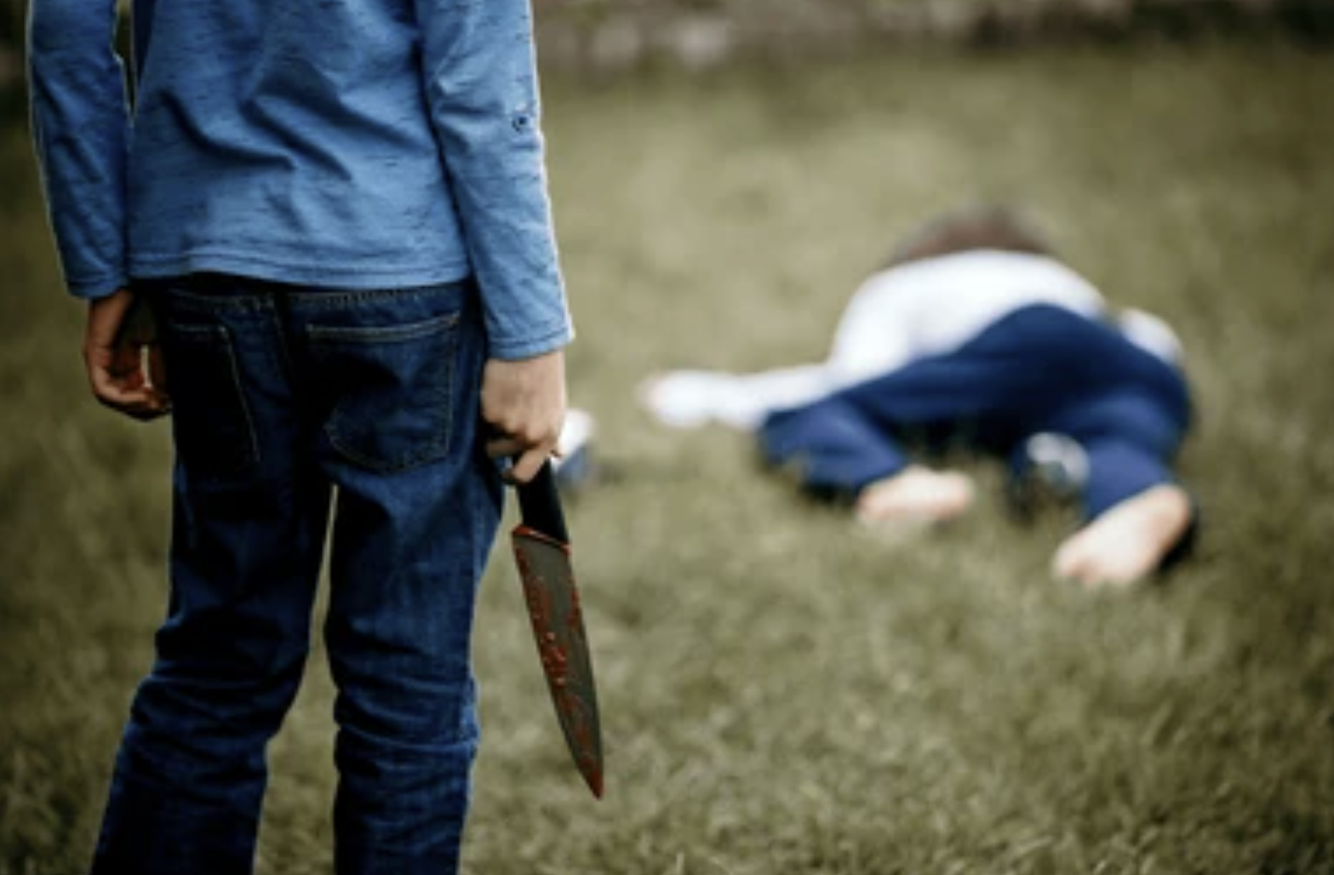knife_66.png: (484, 442, 646, 804)
